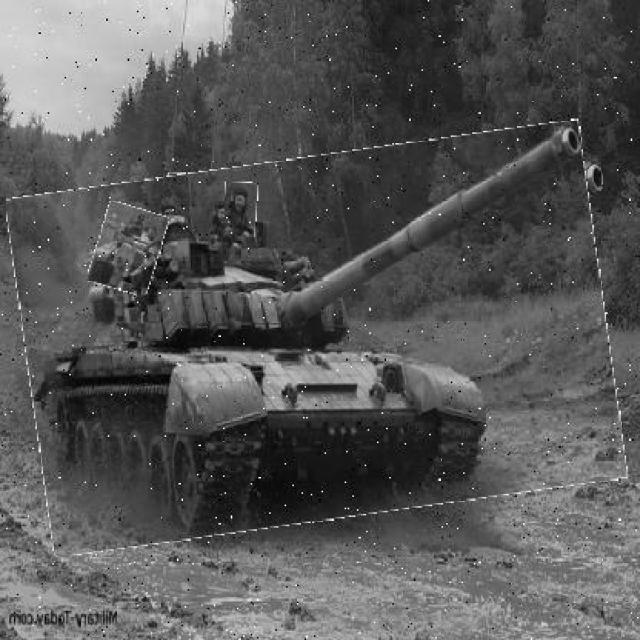Person: (169, 175, 209, 226), (224, 184, 260, 240)
Tank: (17, 139, 617, 538), (92, 206, 166, 295)
